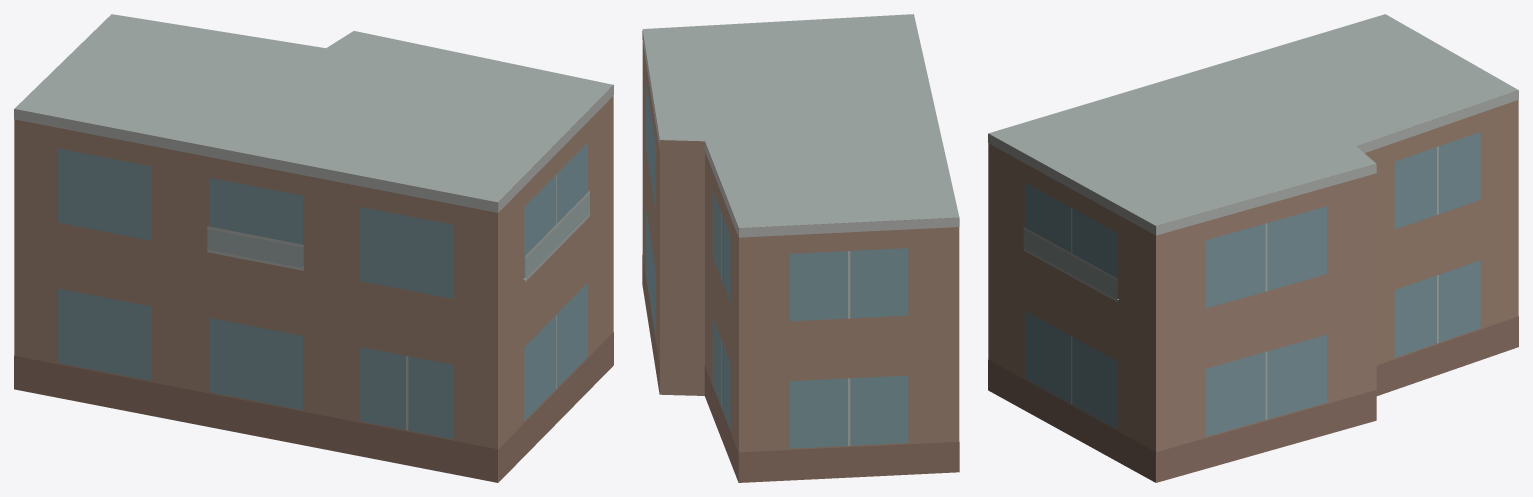
File: survey-upis-32604417.glb
The picture shows the model from 3 angles, left to right: view 1: azimuth 30°, elevation 25°; view 2: azimuth 150°, elevation 25°; view 3: azimuth 270°, elevation 25°; orthographic projection. The views are drawn at different scales.
Parts seen in each view (by area): view 1: survey-upis-32604417.tmp; view 2: survey-upis-32604417.tmp; view 3: survey-upis-32604417.tmp.
Boxes of the visible parts, left/top/right/bottom form: survey-upis-32604417.tmp: left=14, top=14, right=613, bottom=482; survey-upis-32604417.tmp: left=642, top=14, right=959, bottom=482; survey-upis-32604417.tmp: left=988, top=14, right=1518, bottom=482.
Size of the model in its own units: 11.51 by 6.5 by 12.18.
